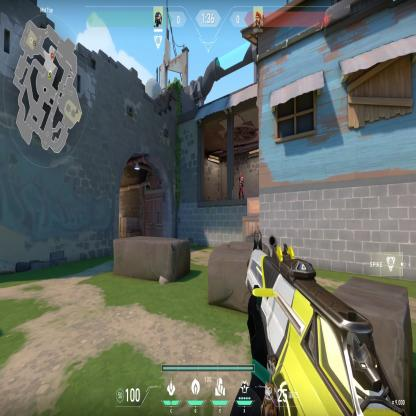enemy: (238, 171, 245, 200)
